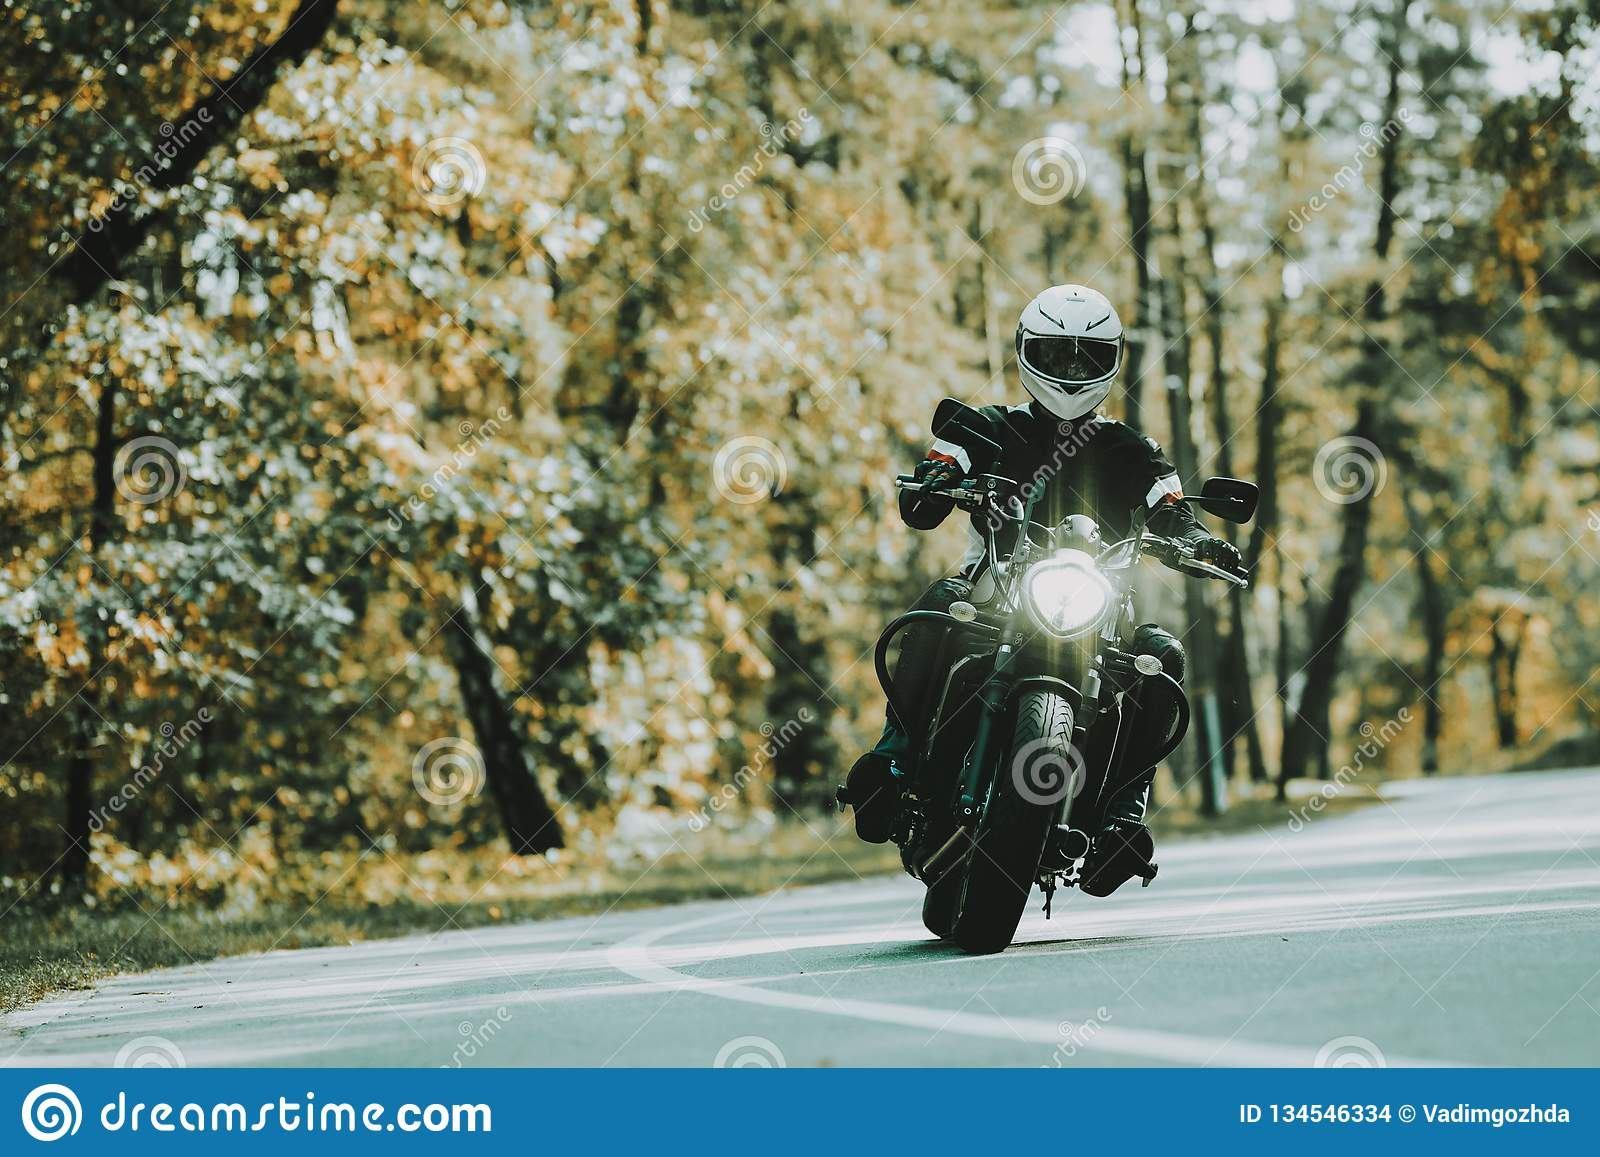helmet: (1019, 291, 1132, 418)
